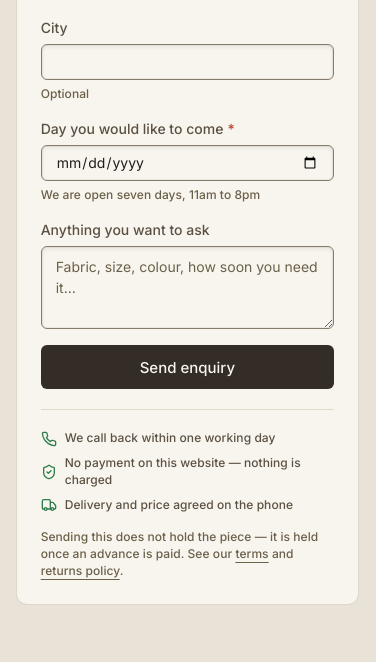
Test: sending an enquiry › clears a field error as soon as it is corrected
The image size is (376, 662).
(page scrolled)
Click the button "Send enquiry" at (187, 367), box x1=41 y1=345 x2=334 y2=389
(page scrolled)
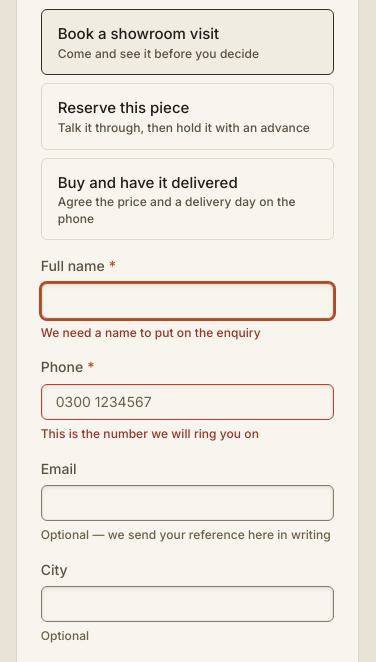
expect the text "We need a name to put on the enquiry" is shown: met, box x1=41 y1=325 x2=261 y2=340
Type "Arslan Khan" into the field named "name" at (187, 301), box x1=41 y1=283 x2=334 y2=319
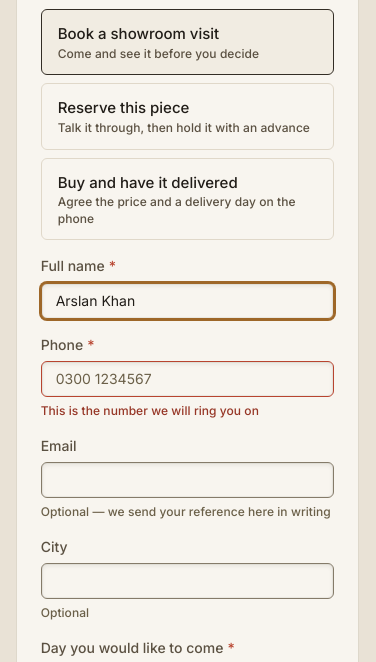
expect the text "We need a name to put on the enquiry" is gone: met
